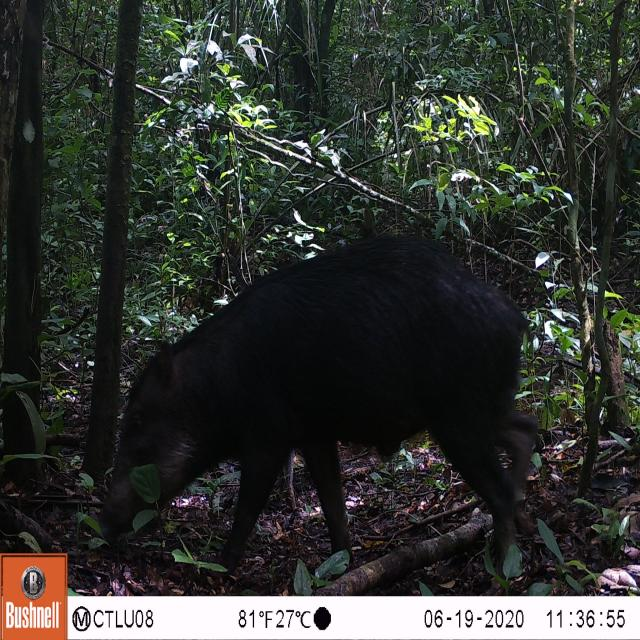Collared Peccary: (91, 216, 559, 581)
